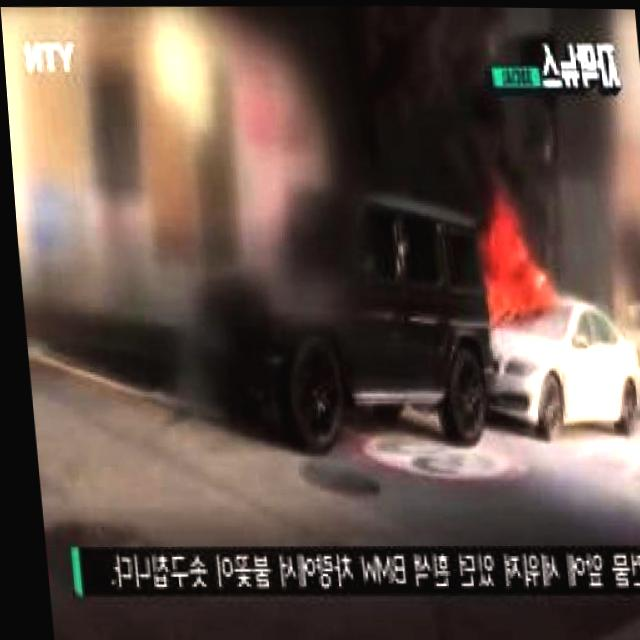Fire: (460, 168, 554, 327)
